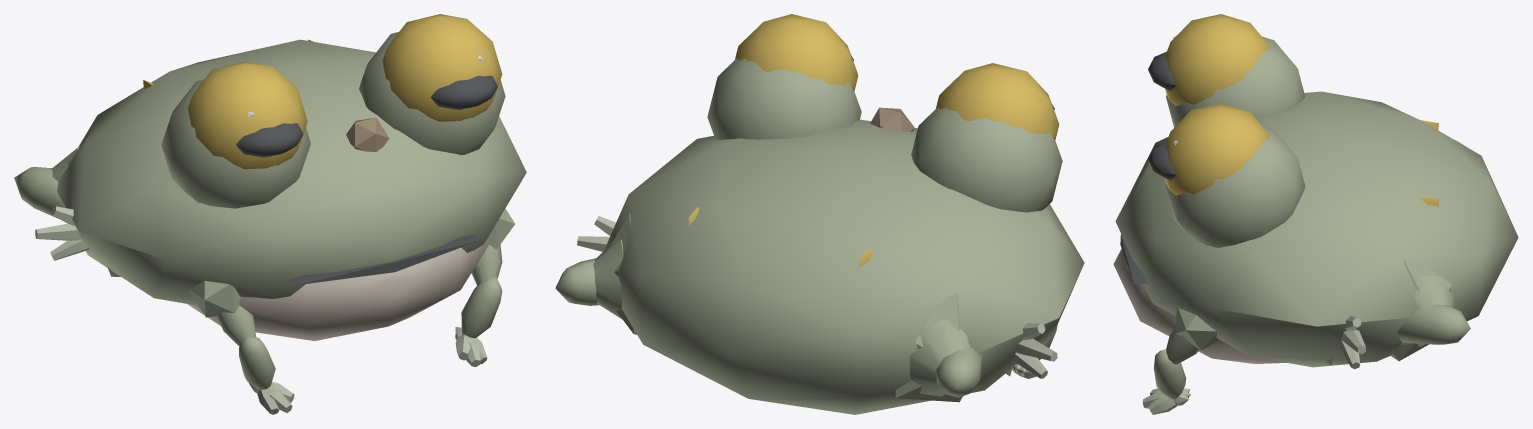
File: occidozyga-laevis.glb
3 views of the same model, side by side, from view 1: azimuth 30°, elevation 25°; view 2: azimuth 150°, elevation 25°; view 3: azimuth 270°, elevation 25° (orthographic). The views are drawn at different scales.
Visible parts, largest first — view 1: body, belly, eyeballl, eyeballr, eyebumpr, eyebumpl, arm-l1, hind-r1, arm-r1, arm-r0, throat, arm-l0 (+2 smaller); view 2: body, eyebumpr, eyebumpl, eyeballl, eyeballr, hind-r0, hind-r1, hind-l0, hind-l1, toeh1r, toeh2r; view 3: body, eyebumpl, eyeballr, eyeballl, eyebumpr, belly, hind-l1, arm-l1, hind-l0, arm-l0, toef0l, toeh1l.
Part boxes in pixels (x1,y1,x2,y2): body: (57, 39, 526, 317); belly: (187, 239, 488, 340); eyeballl: (382, 14, 502, 121); eyeballr: (187, 61, 307, 169); eyebumpr: (161, 79, 310, 208); eyebumpl: (359, 32, 505, 155); arm-l1: (461, 276, 502, 338); hind-r1: (14, 167, 64, 218); arm-r1: (239, 337, 275, 389); arm-r0: (216, 305, 256, 346); throat: (343, 259, 434, 287); arm-l0: (471, 244, 502, 285); body: (604, 107, 1084, 414); eyebumpr: (911, 107, 1062, 212); eyebumpl: (707, 58, 861, 139); eyeballl: (735, 14, 858, 91); eyeballr: (936, 63, 1059, 140); hind-r0: (909, 318, 969, 396); hind-r1: (936, 347, 983, 397); hind-l0: (593, 239, 623, 319); hind-l1: (555, 258, 599, 305); toeh1r: (1015, 338, 1057, 361); toeh2r: (1013, 352, 1047, 378); body: (1115, 91, 1518, 367); eyebumpl: (1166, 126, 1305, 247); eyeballr: (1148, 14, 1270, 105); eyeballl: (1148, 103, 1270, 195); eyebumpr: (1166, 36, 1305, 127); belly: (1113, 248, 1286, 363); hind-l1: (1397, 304, 1470, 344); arm-l1: (1153, 349, 1186, 399); hind-l0: (1401, 275, 1454, 346); arm-l0: (1166, 329, 1199, 364); toef0l: (1148, 388, 1190, 414); toeh1l: (1342, 329, 1365, 354).
Size of the model in its own units: 0.722 by 0.4792 by 0.5807.
